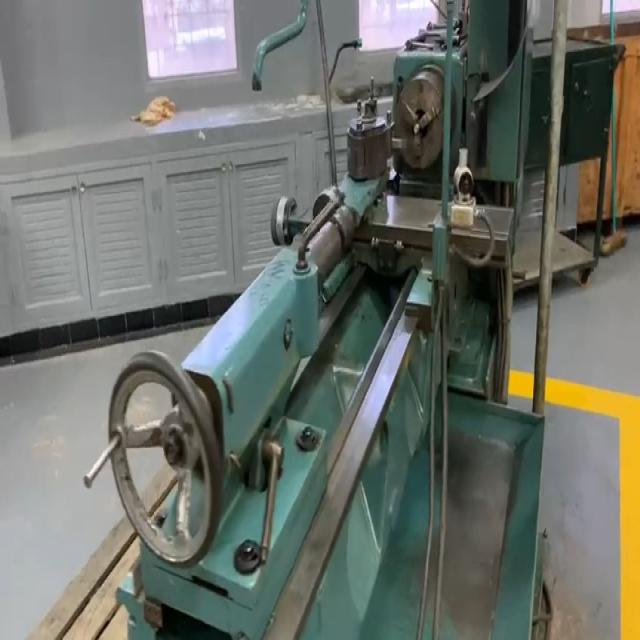tour parallele: (91, 0, 551, 638), (559, 44, 620, 169)
